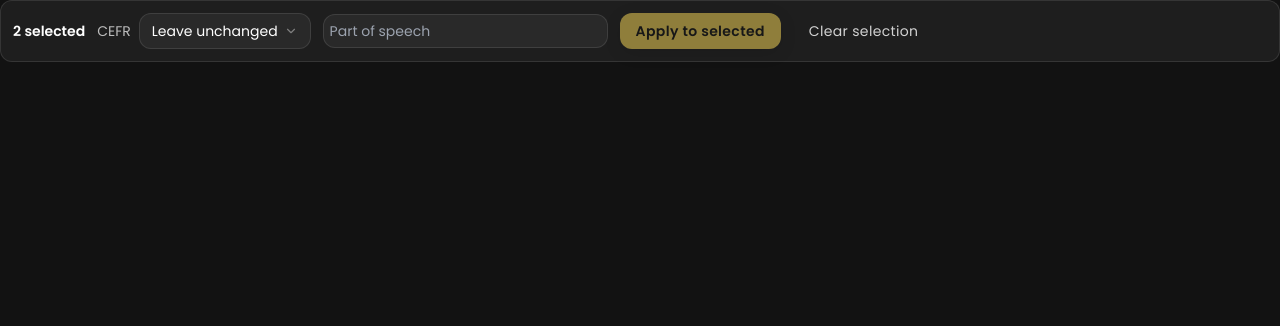
Test: BulkEditBar › says when some cards could not be changed rather than swallowing it
Press Enter in the dropdown named "Bulk CEFR level", box 139,13 -> 311,49
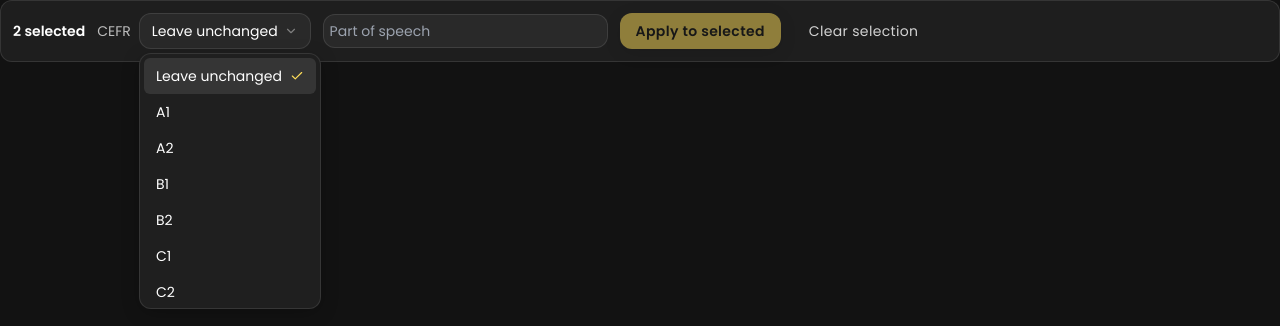
Click the option "B1".
click(163, 184)  # box 156,174 -> 169,194
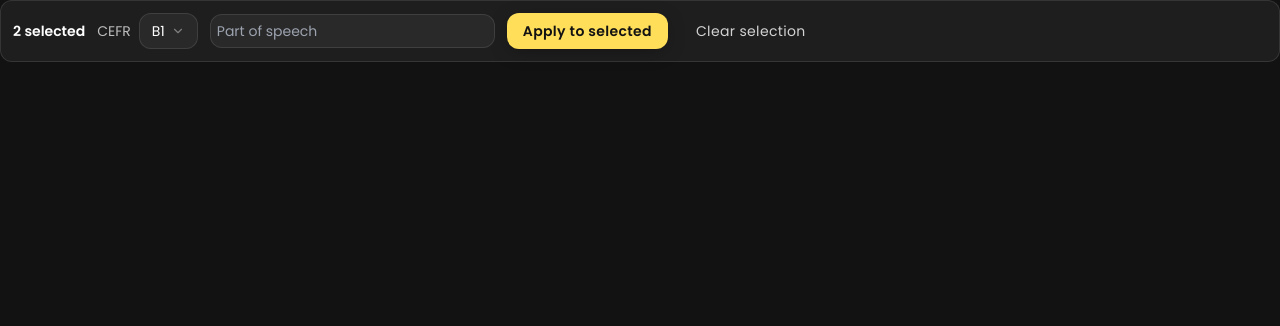
Click the button "Apply to selected".
click(587, 31)  # box 507,13 -> 668,49
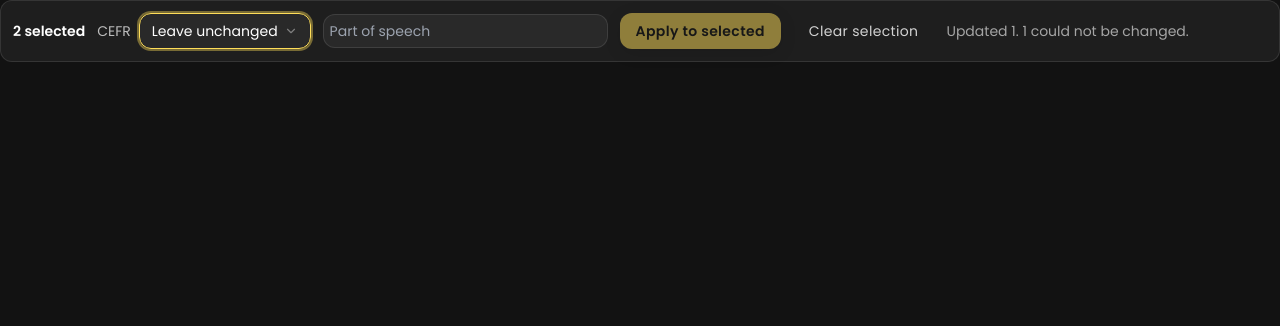
Now the message shows "1 could not be changed", box 946,21 -> 1189,41
